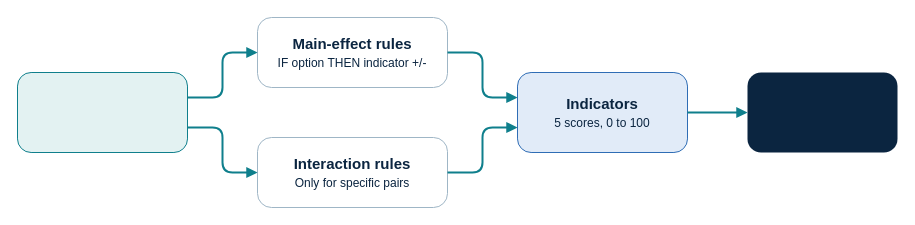
This 915x225 diagram has some shape labels left out. The centre of each missing label's shape, as x and y in pixels:
"Decisions 5 user choices" goes at (x=102, y=112).
"Explanations Who gains, who loses" goes at (x=822, y=112).
